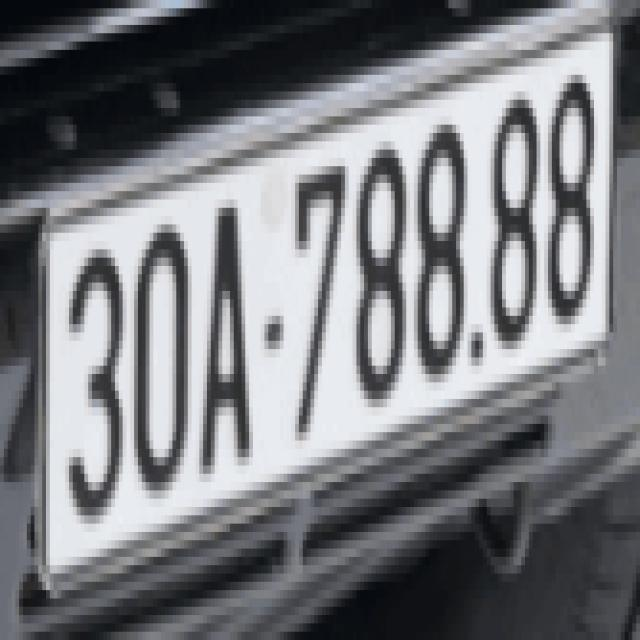0: (132, 222, 194, 499)
3: (64, 247, 128, 529)
7: (287, 159, 347, 442)
8: (352, 131, 408, 416), (482, 87, 540, 358), (544, 63, 601, 336), (414, 122, 468, 384)
A: (198, 199, 259, 481)
